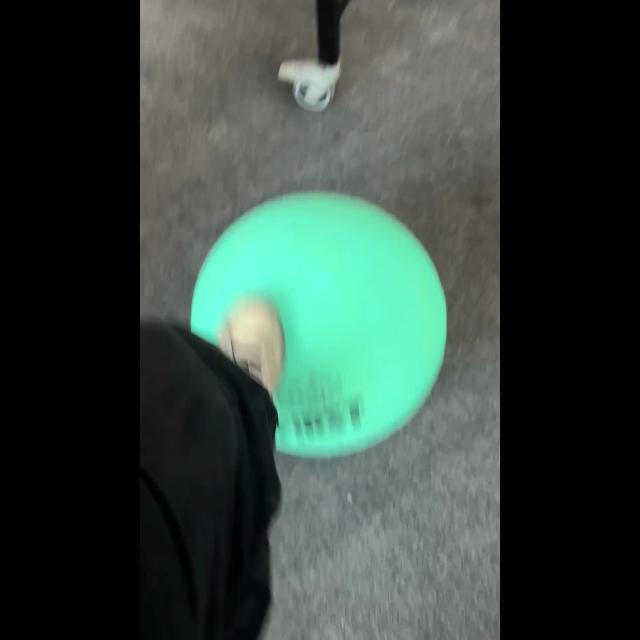ALGAE: (189, 190, 447, 458)
